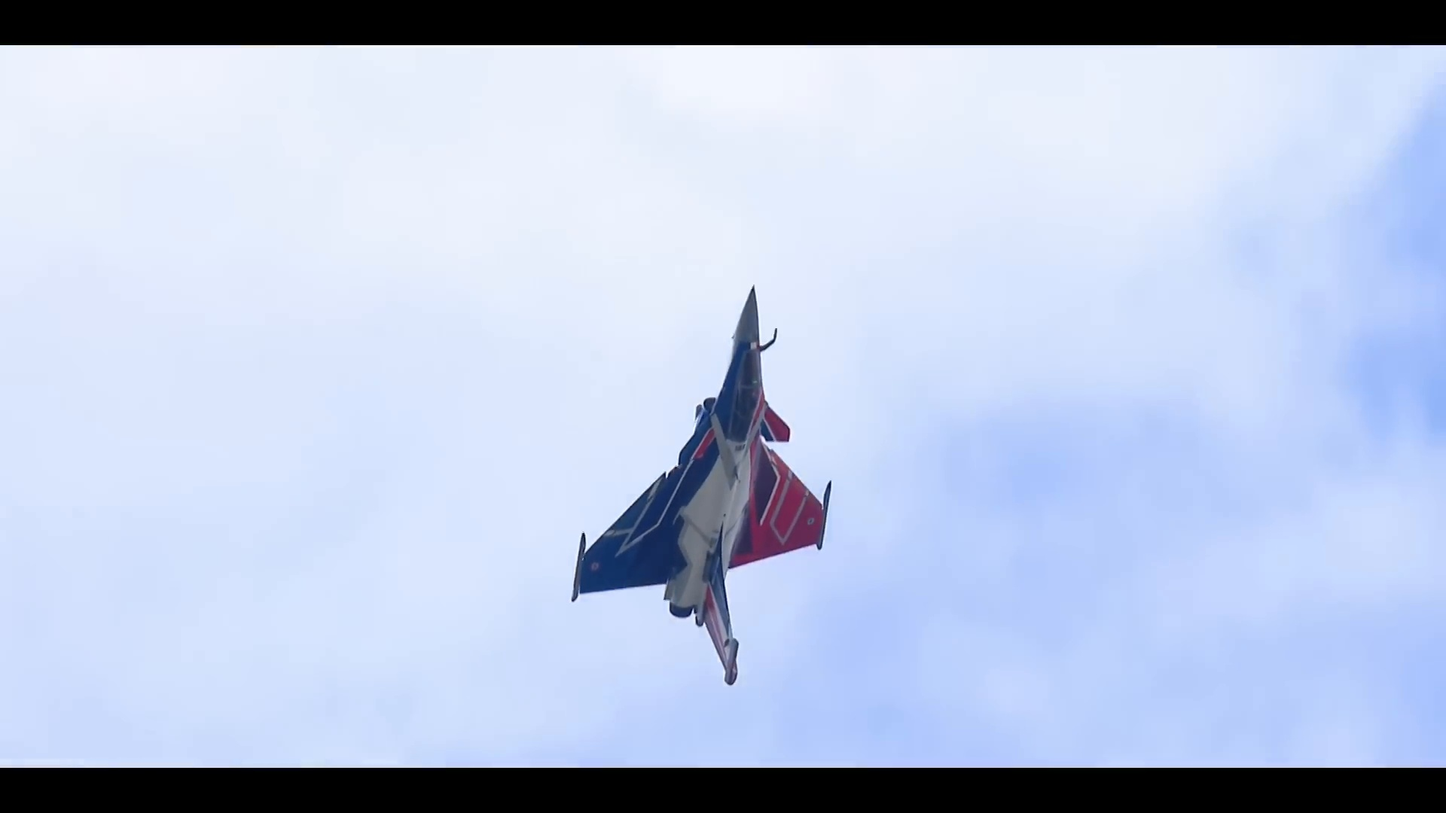Rafale: (565, 277, 836, 691)
